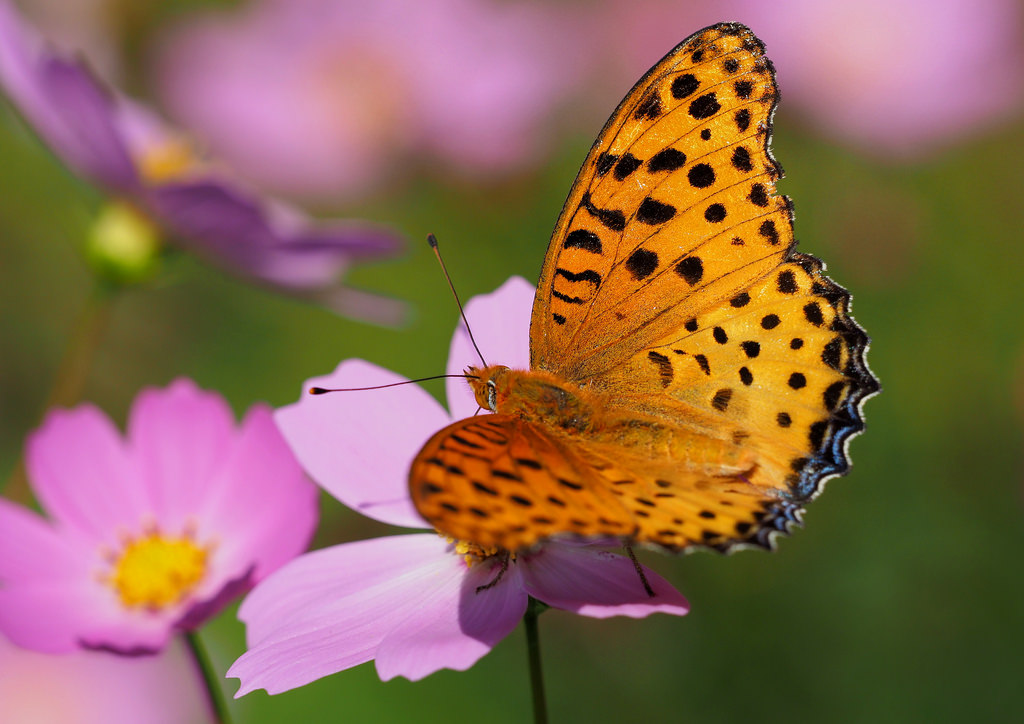Argyreus hyperbius: (300, 14, 886, 599)
butterfly: (302, 16, 888, 601)
